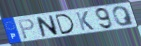9: (95, 7, 114, 30)
D: (54, 13, 76, 35)
K: (75, 11, 96, 32)
N: (36, 15, 60, 38)
P: (17, 18, 36, 40)
Q: (111, 5, 136, 27)
